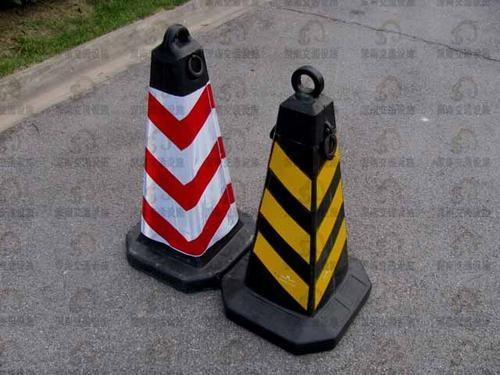cone_barrel: (231, 63, 370, 334), (118, 14, 252, 275)
